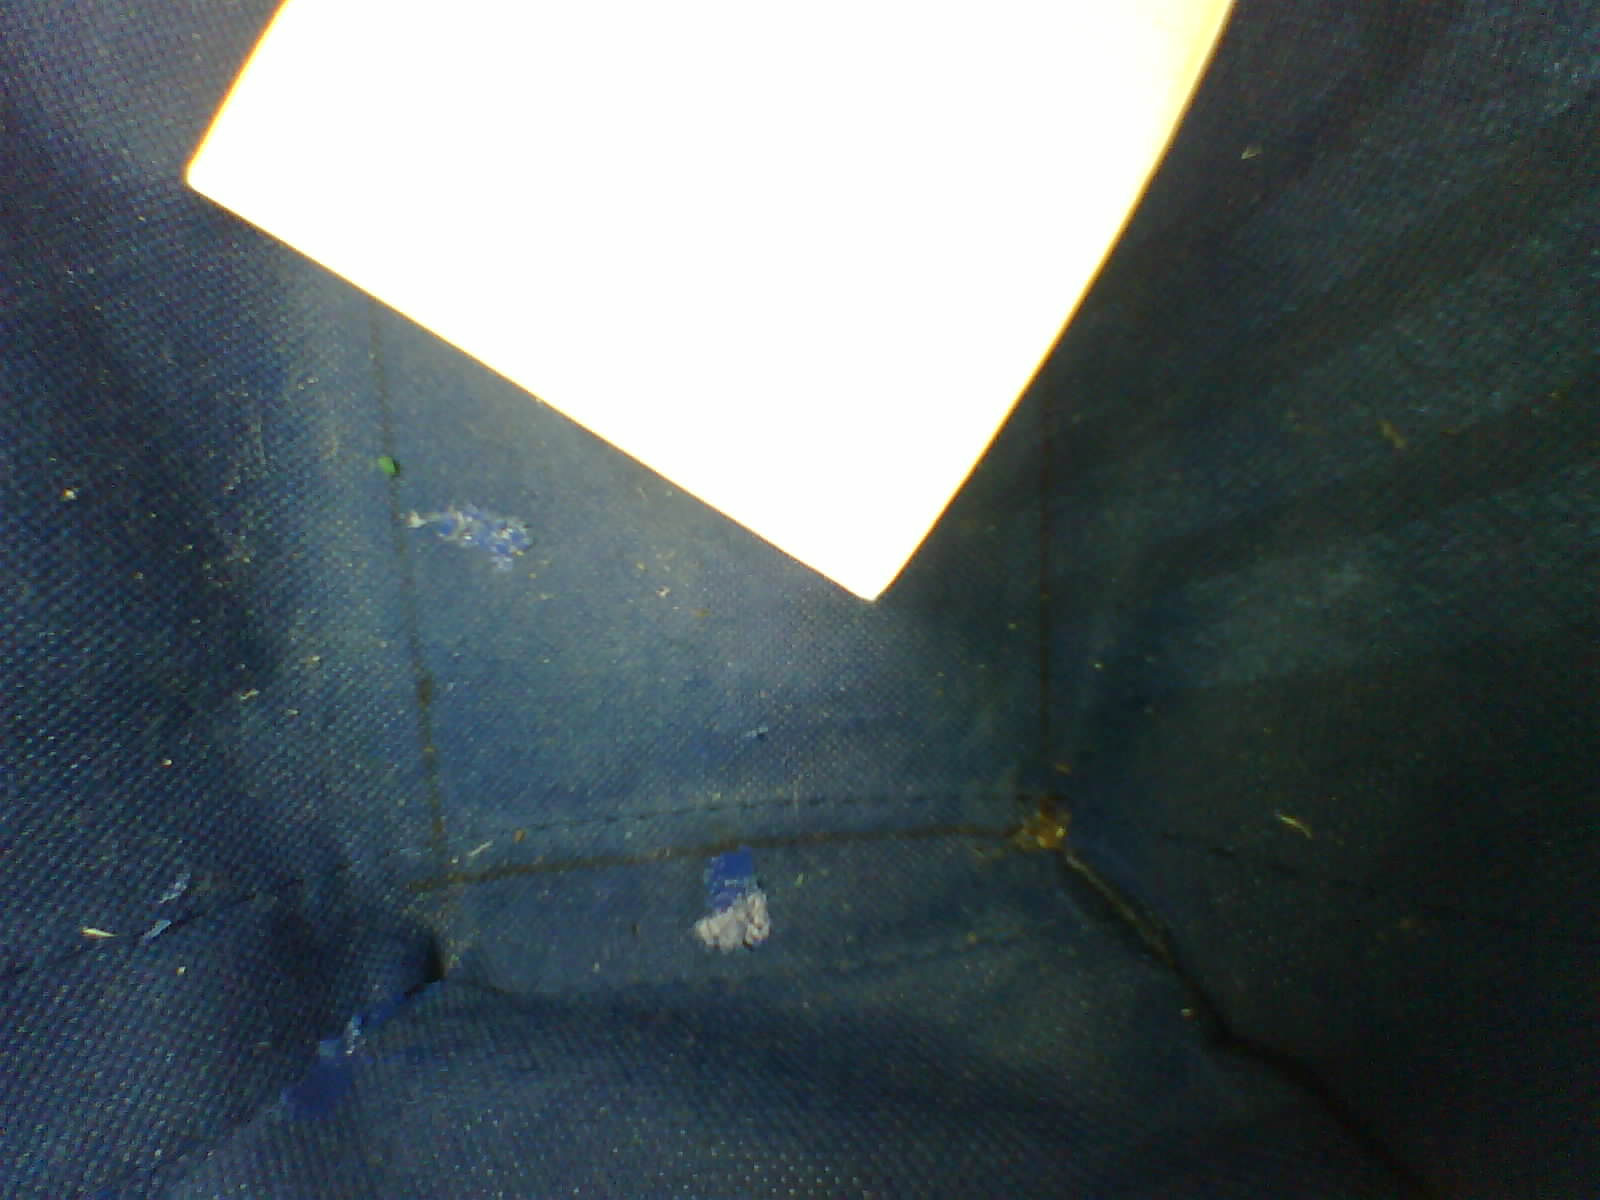cube-hard: (155, 0, 1259, 624)
